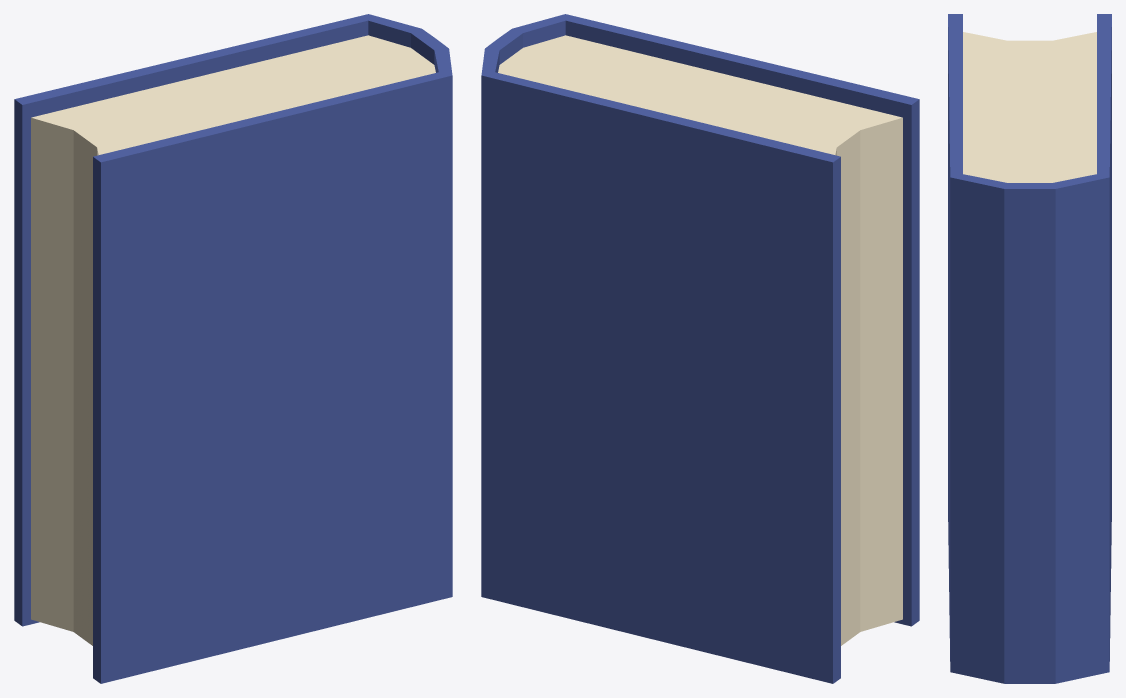
The model's file is Book_01.fbx.
3 renders of one model, left to right at view 1: azimuth 30°, elevation 25°; view 2: azimuth 150°, elevation 25°; view 3: azimuth 270°, elevation 25°, orthographic. The views are drawn at different scales.
Visible parts, largest first — view 1: Plane.228; view 2: Plane.228; view 3: Plane.228.
Boxes of the visible parts, bbox=[...] form: Plane.228: bbox=[14, 14, 452, 683]; Plane.228: bbox=[481, 14, 919, 683]; Plane.228: bbox=[948, 14, 1111, 683].
Size of the model in its own units: 0.5916 by 0.234 by 0.7795.
